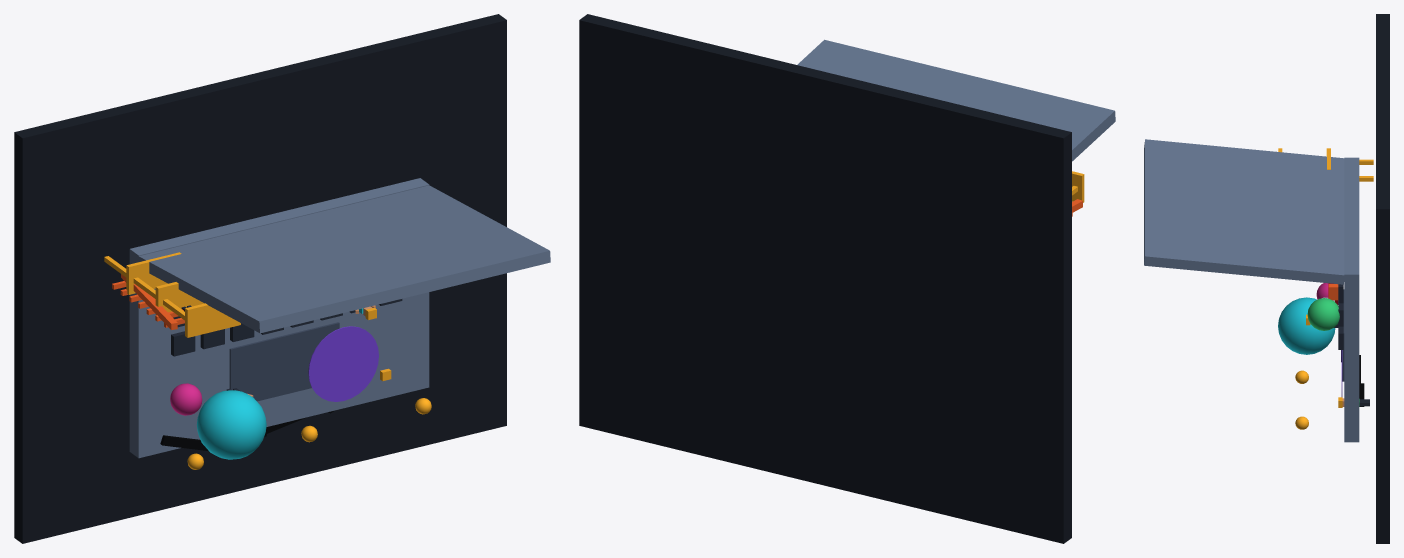
The model's file is 02-laptop-construction.obj.
The picture shows the model from 3 angles, left to right: view 1: azimuth 30°, elevation 25°; view 2: azimuth 150°, elevation 25°; view 3: azimuth 270°, elevation 25°; orthographic projection. The views are drawn at different scales.
Visible parts, largest first — view 1: floor, giant_screen_back, giant_laptop_base, giant_trackpad, iridescent_oil_puddle, soap_bubble_large, scaffold_deck_6.25, soap_bubble_small, scaffold_deck_2.05, scaffold_deck_4.15; view 2: floor, giant_screen_back; view 3: giant_screen_back, floor, giant_laptop_base, soap_bubble_large, jade_debug_orb.
Part boxes in pixels (x1=…): floor: x1=14, y1=14, x2=506, y2=543; giant_screen_back: x1=138, y1=185, x2=550, y2=333; giant_laptop_base: x1=129, y1=178, x2=429, y2=458; giant_trackpad: x1=229, y1=322, x2=339, y2=401; iridescent_oil_puddle: x1=308, y1=326, x2=378, y2=401; soap_bubble_large: x1=196, y1=390, x2=266, y2=459; scaffold_deck_6.25: x1=185, y1=303, x2=240, y2=337; soap_bubble_small: x1=170, y1=383, x2=202, y2=415; scaffold_deck_2.05: x1=126, y1=252, x2=181, y2=294; scaffold_deck_4.15: x1=155, y1=282, x2=204, y2=315; floor: x1=579, y1=14, x2=1071, y2=543; giant_screen_back: x1=797, y1=39, x2=1115, y2=161; giant_screen_back: x1=1144, y1=139, x2=1344, y2=284; floor: x1=1376, y1=14, x2=1389, y2=543; giant_laptop_base: x1=1344, y1=157, x2=1359, y2=442; soap_bubble_large: x1=1278, y1=297, x2=1335, y2=354; jade_debug_orb: x1=1307, y1=298, x2=1339, y2=330.
Size of the model in its own units: 20 by 16 by 10.65.
